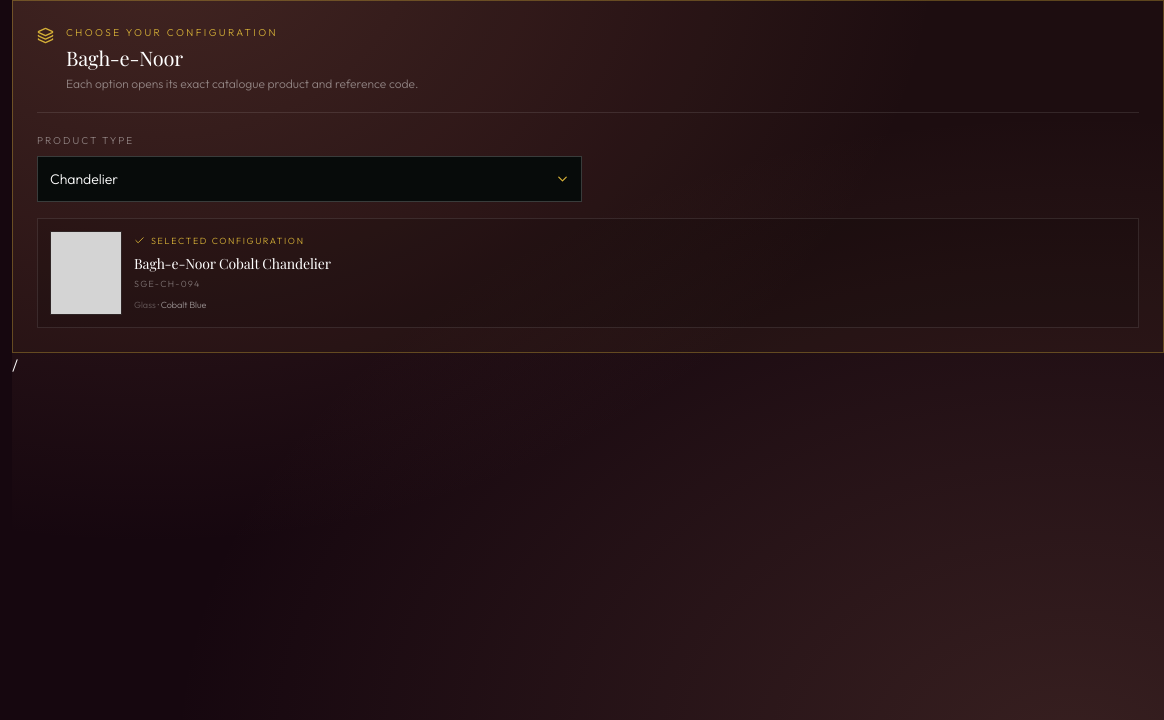
Scenario: separates same-category choices from matching pieces in other categories
Expected: the element with test id "selected-configuration" shows "SGE-CH-094", [134,278,201,289]
Select "Wall Light" in the dropdown labelled "Product type" at (310, 179), box [37,156,582,202]
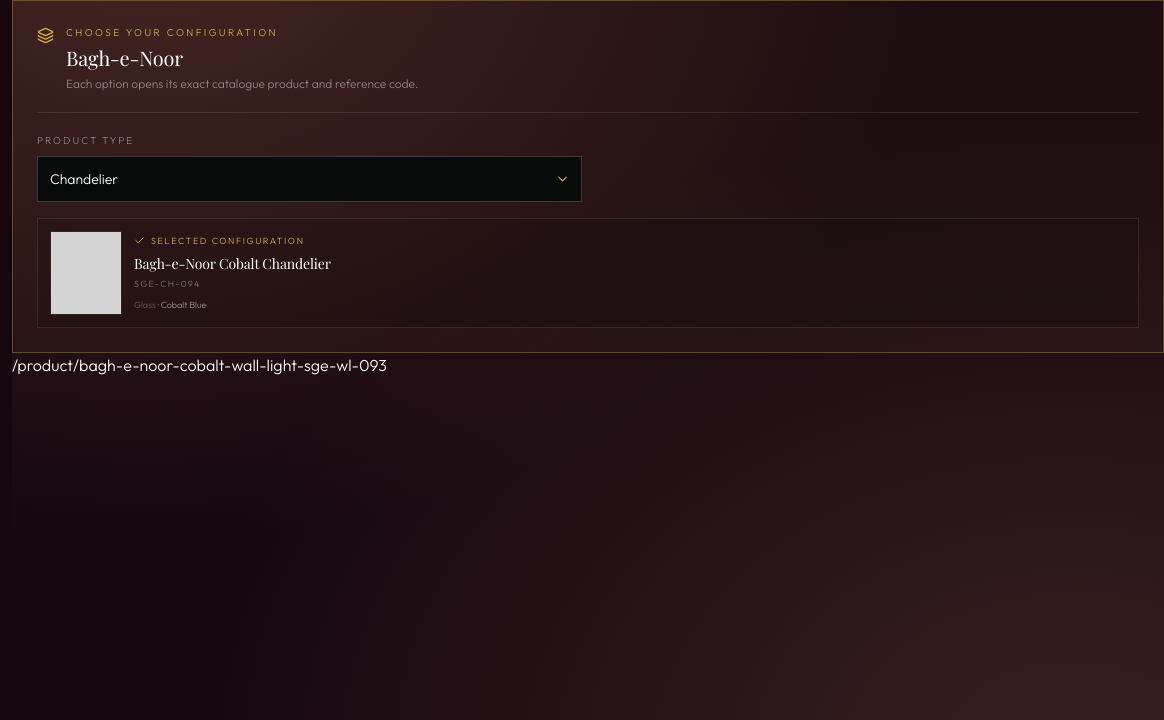
Result: the text with test id "location" shows "sge-wl-093" at [12,355,387,375]
